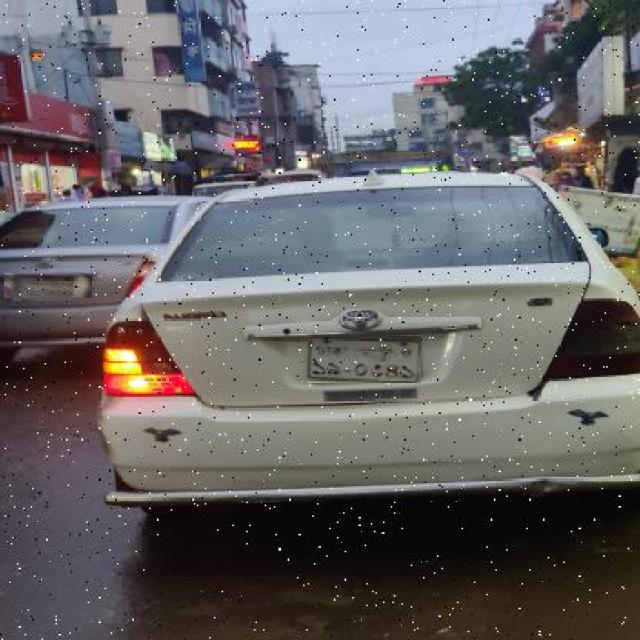numberplate: (308, 335, 422, 383), (4, 273, 92, 298)
